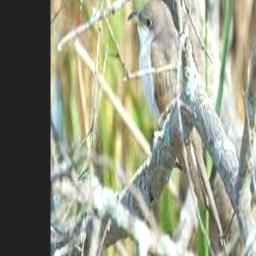Cuckoo: (127, 0, 218, 219)
